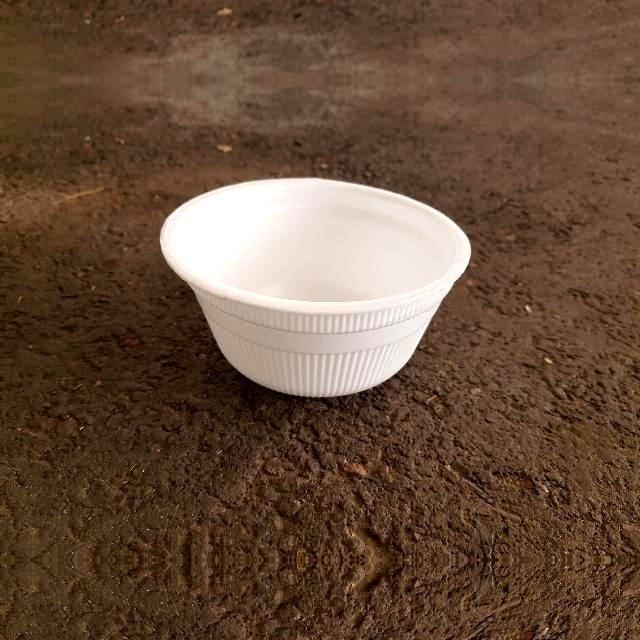Styrofoam: (160, 175, 472, 399), (160, 178, 471, 397)
